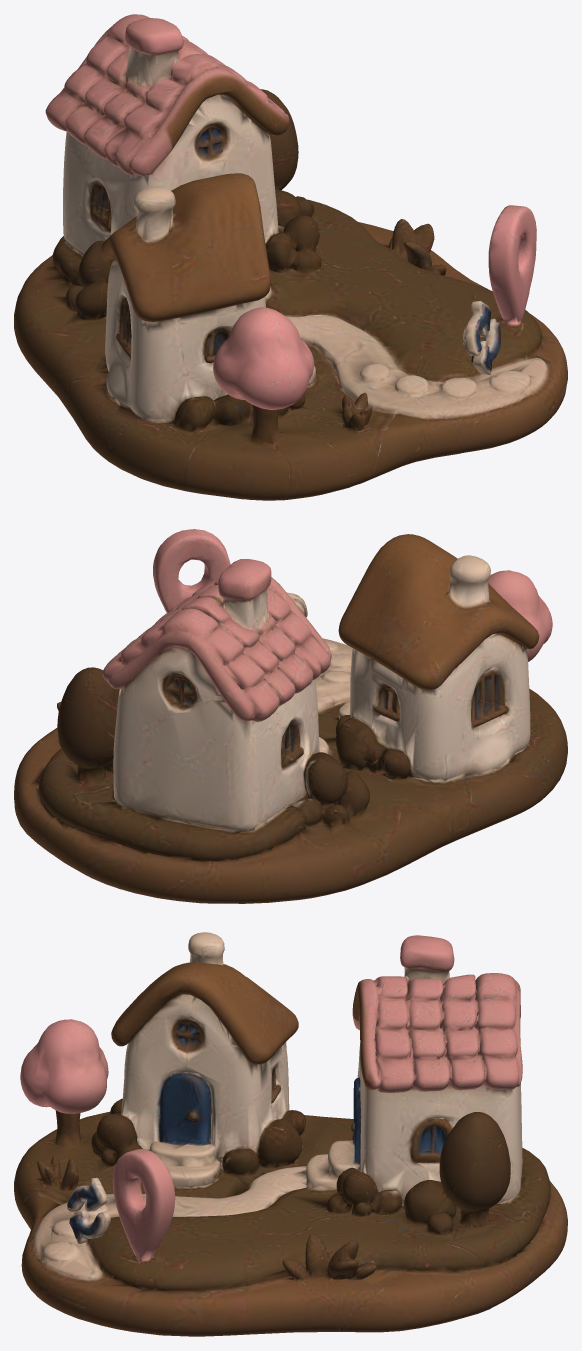
The model's file is actihome_icon_3d_v2.glb.
The picture shows the model from 3 angles, top to bottom: view 1: azimuth 30°, elevation 25°; view 2: azimuth 150°, elevation 25°; view 3: azimuth 270°, elevation 25°; orthographic projection. The views are drawn at different scales.
Visible parts, largest first — view 1: mesh_node; view 2: mesh_node; view 3: mesh_node.
Boxes of the visible parts, x1,y1,x2,y2 form: mesh_node: (14,14,567,500); mesh_node: (14,529,567,903); mesh_node: (14,932,567,1336).
Size of the model in its own units: 1.64 by 1.09 by 1.9.
Materials: 1 (1 with a texture image).
